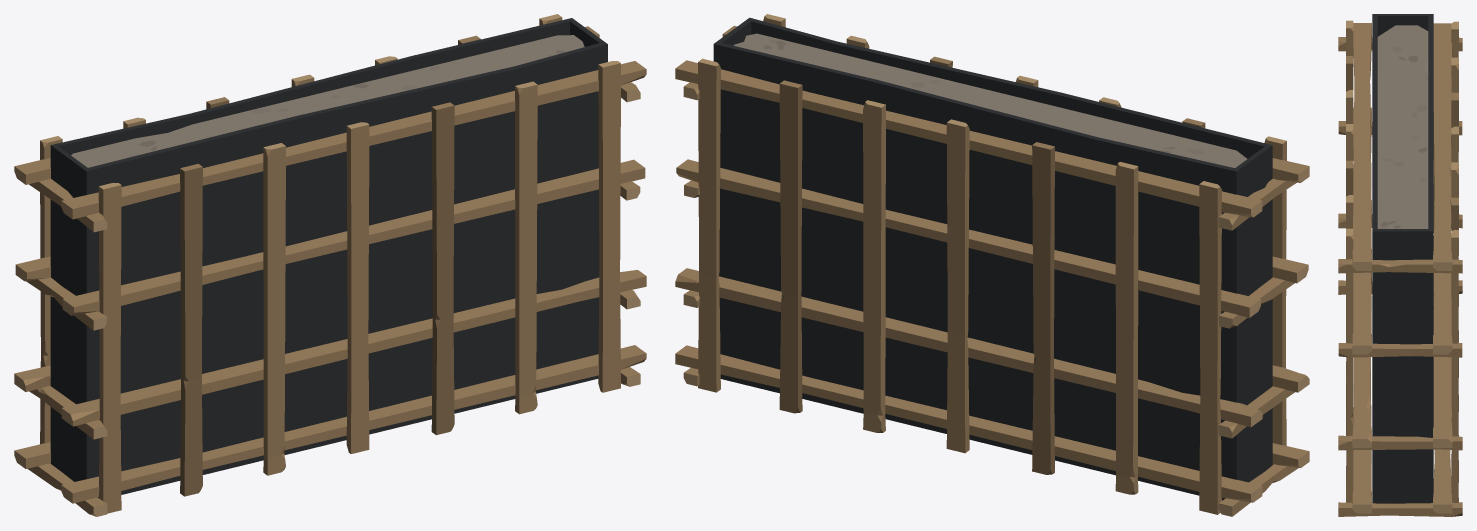
Rendered from SM_Bld_ConcreteFrame_Wall_02.fbx.
3 views of the same model, side by side, from view 1: azimuth 30°, elevation 25°; view 2: azimuth 150°, elevation 25°; view 3: azimuth 270°, elevation 25° (orthographic). The views are drawn at different scales.
Parts seen in each view (by area): view 1: SM_Bld_ConcreteFrame_Wall_02; view 2: SM_Bld_ConcreteFrame_Wall_02; view 3: SM_Bld_ConcreteFrame_Wall_02.
Part boxes in pixels (box(x1,y1,x2,y2)): SM_Bld_ConcreteFrame_Wall_02: box(14, 14, 646, 516); SM_Bld_ConcreteFrame_Wall_02: box(675, 14, 1309, 516); SM_Bld_ConcreteFrame_Wall_02: box(1338, 14, 1462, 516).
Bounding box in the file's own units: 561 × 313 × 123.
